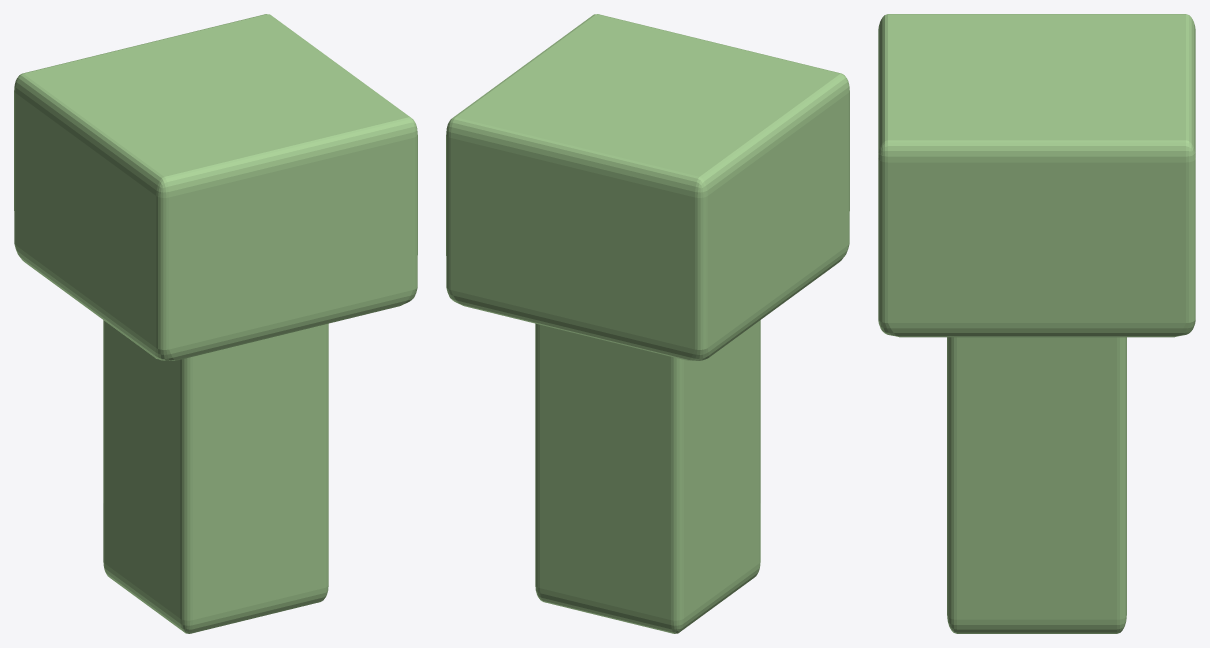
Rendered from plant.fbx.
The picture shows the model from 3 angles, left to right: view 1: azimuth 30°, elevation 25°; view 2: azimuth 150°, elevation 25°; view 3: azimuth 270°, elevation 25°; orthographic projection. The views are drawn at different scales.
Visible parts, largest first — view 1: Cube; view 2: Cube; view 3: Cube.
Boxes of the visible parts, left/top/right/bottom form: Cube: left=14, top=14, right=417, bottom=633; Cube: left=446, top=14, right=849, bottom=633; Cube: left=878, top=14, right=1195, bottom=633.
Size of the model in its own units: 1.77 by 3.21 by 1.77.
